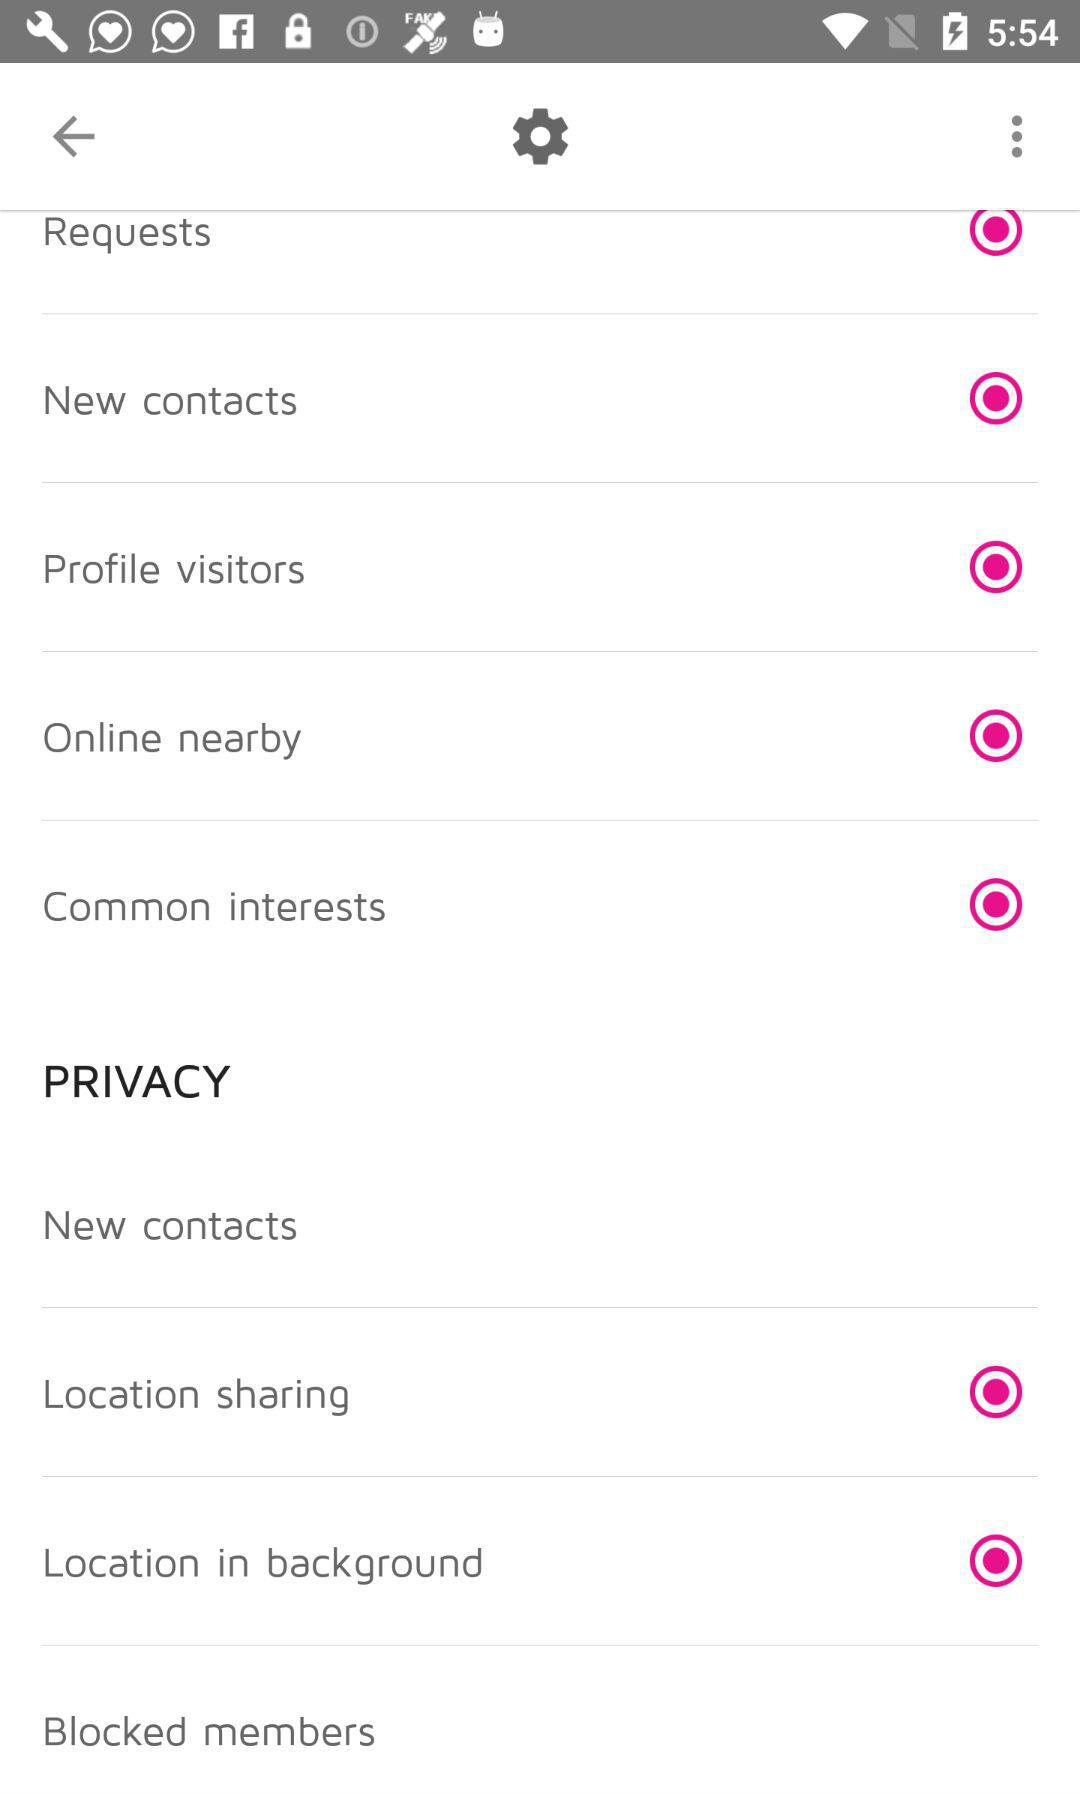CheckedTextView: (44, 539, 1024, 596), (44, 876, 1024, 933), (44, 709, 1024, 764), (45, 372, 1024, 427), (45, 1365, 1024, 1420), (45, 1533, 1024, 1588), (45, 211, 1024, 258)
Icon: (512, 108, 569, 167), (53, 115, 97, 159), (1010, 115, 1024, 160)
Text: (45, 1545, 483, 1586), (45, 1378, 350, 1417), (44, 891, 387, 923), (45, 1715, 375, 1747), (44, 721, 304, 761), (44, 552, 305, 586), (45, 1210, 299, 1242), (45, 386, 299, 416), (45, 1064, 232, 1099), (45, 217, 211, 256)
UpperTaskBar: (1, 1, 1080, 64)
